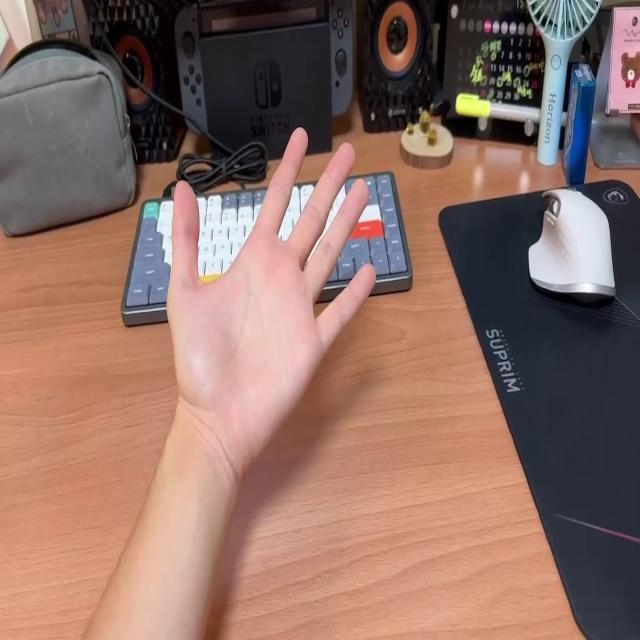keyboard-with-hands: (123, 170, 411, 311)
